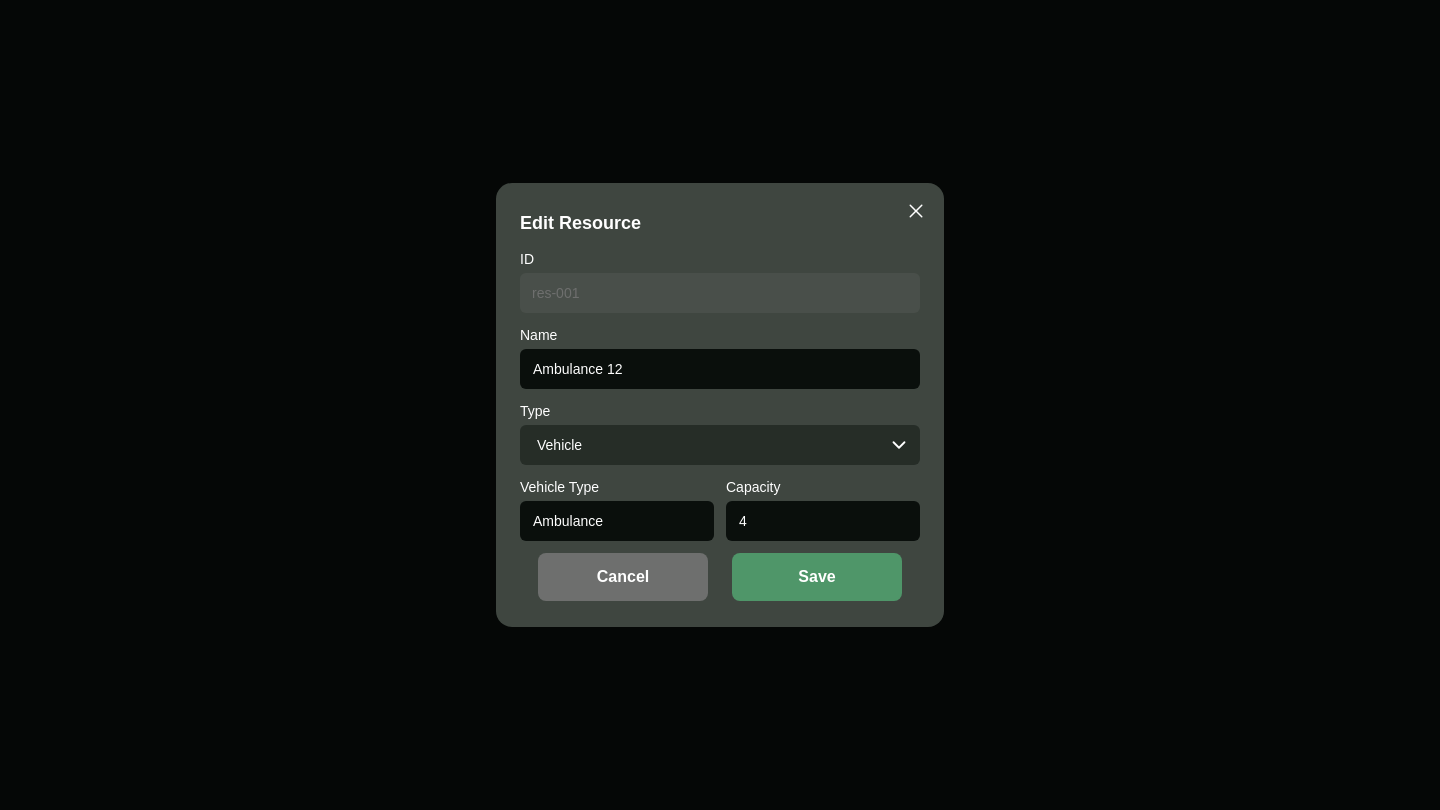
Test: UpdateResourceModal › blocks submission and shows a field error when the name is cleared
Clear the field labelled "Name" at (720, 369), box x1=520 y1=349 x2=920 y2=389
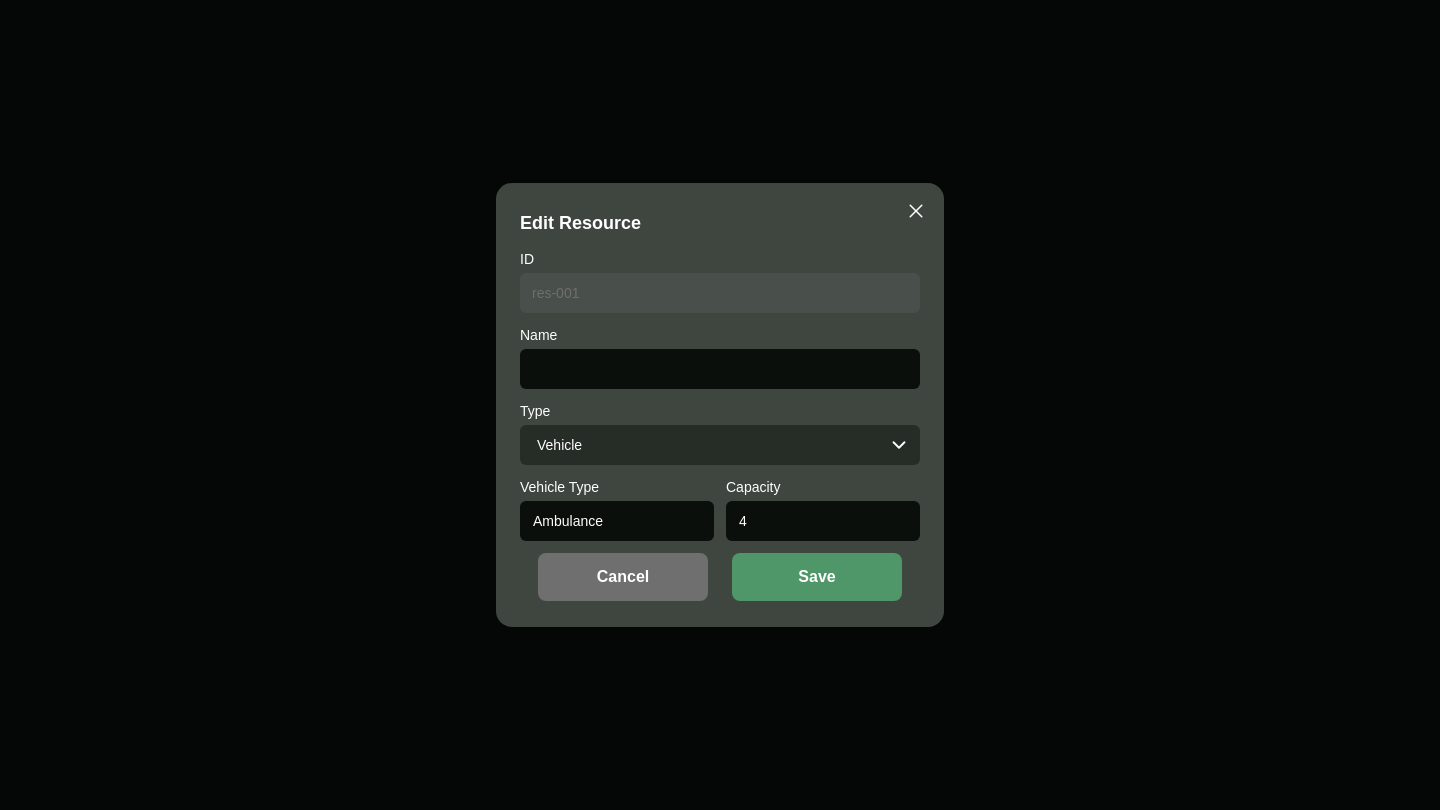
Click the button "Save" at (817, 577), box x1=732 y1=553 x2=902 y2=601
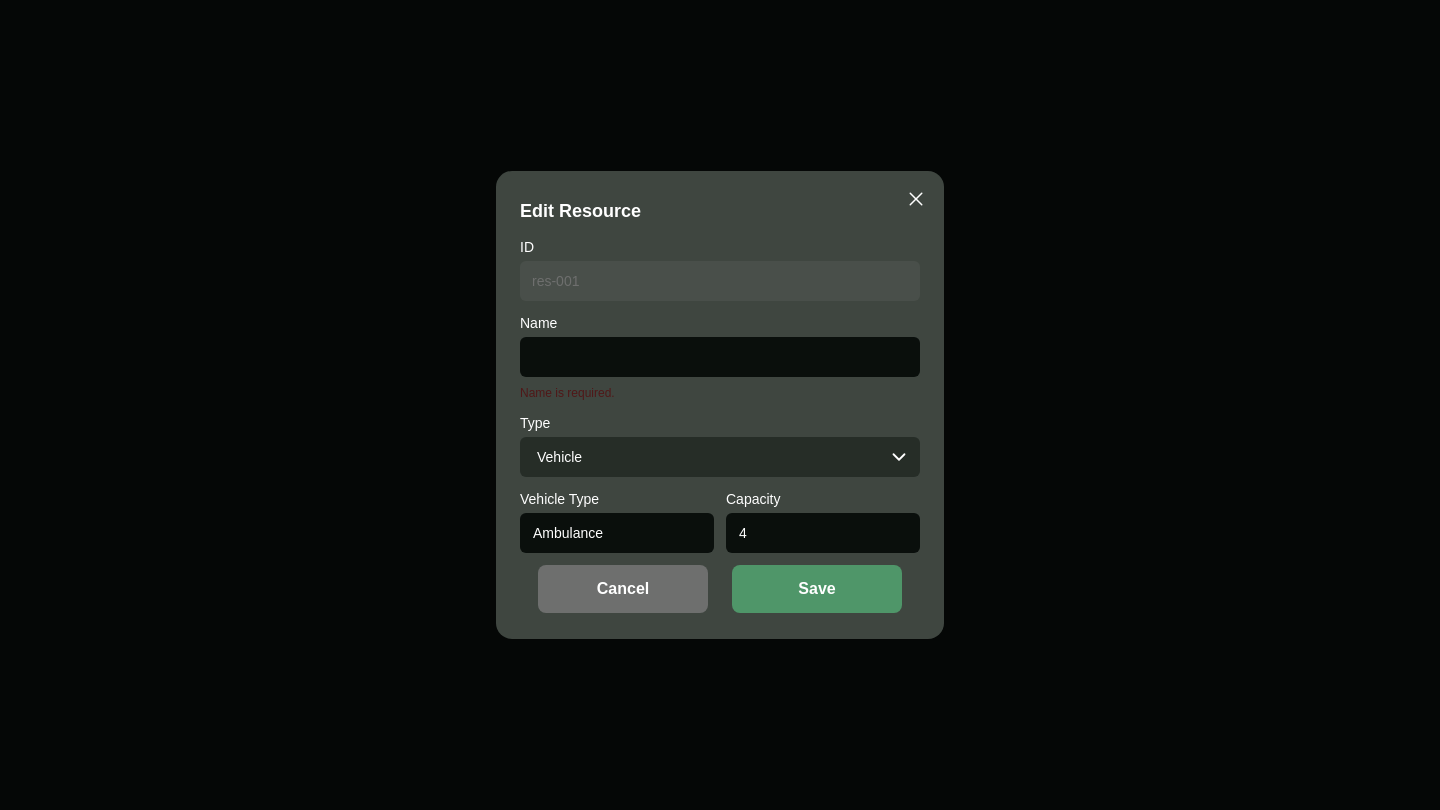
Now the text "Name is required." is shown, box x1=520 y1=386 x2=615 y2=400
